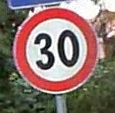limite 30: (9, 6, 98, 93)
